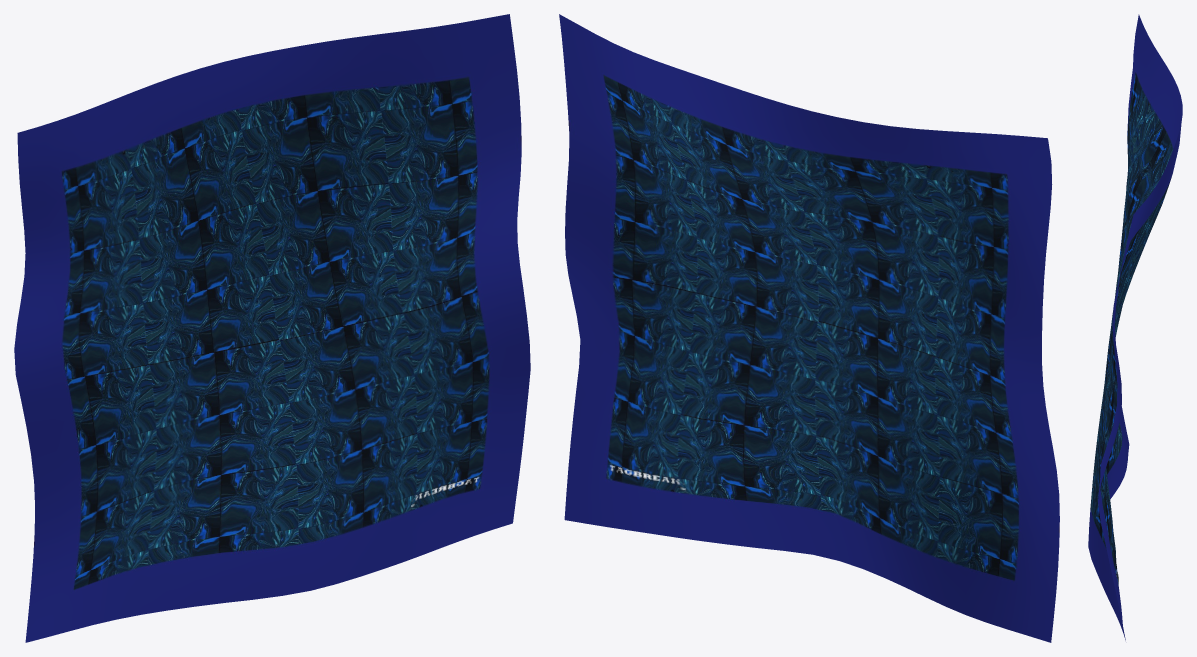
Rendered from scarf3.glb.
3 renders of one model, left to right at view 1: azimuth 30°, elevation 25°; view 2: azimuth 150°, elevation 25°; view 3: azimuth 270°, elevation 25°, orthographic. The views are drawn at different scales.
Visible parts, largest first — view 1: Plane; view 2: Plane; view 3: Plane.
Part boxes in pixels (x1,y1,x2,y2): Plane: (14,14,530,642); Plane: (559,14,1059,642); Plane: (1088,14,1182,640).
Size of the model in its own units: 2.02 by 2 by 0.3968.
1 material, 1 textured.
